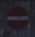No entry: (5, 5, 30, 32)
